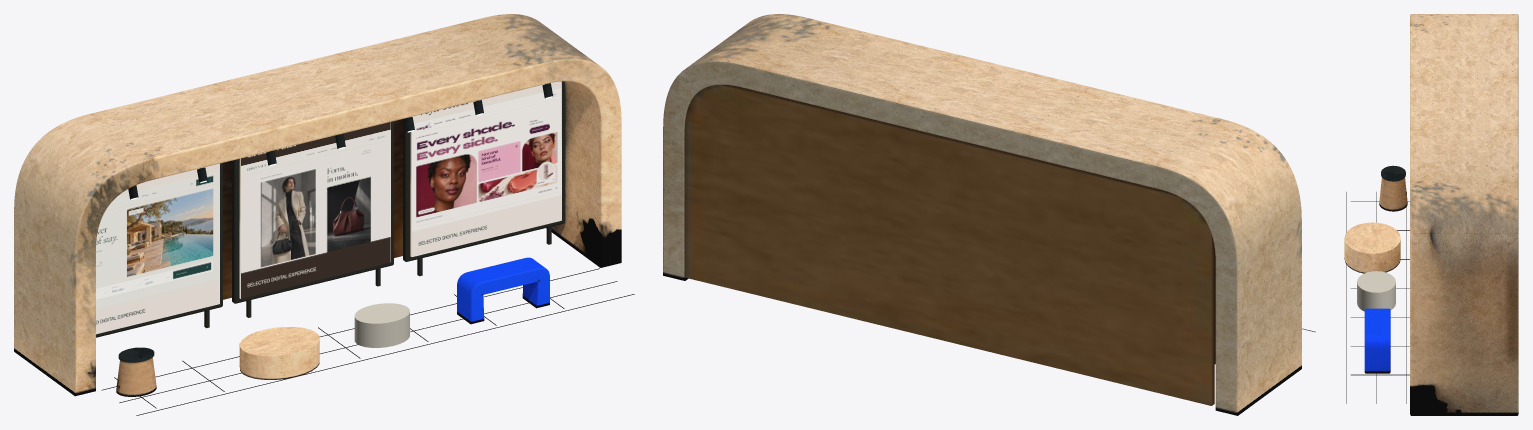
File: gallery-baked.glb
3 views of the same model, side by side, from view 1: azimuth 30°, elevation 25°; view 2: azimuth 150°, elevation 25°; view 3: azimuth 270°, elevation 25° (orthographic). The views are drawn at different scales.
Parts seen in each view (by area): view 1: Mesh_12, Mesh_7, Mesh_8, Mesh_6, Mesh_13, Mesh_10, Mesh_5, Mesh_9, Mesh_17, Mesh_15, Mesh_11, Mesh_14; view 2: Mesh_5, Mesh_12; view 3: Mesh_12, Mesh_10, Mesh_9, Mesh_11, Mesh_17, Mesh_15.
Boxes of the visible parts, left/top/right/bottom form: Mesh_12: left=14, top=14, right=621, bottom=396; Mesh_7: left=241, top=122, right=390, bottom=298; Mesh_8: left=412, top=81, right=561, bottom=256; Mesh_6: left=96, top=163, right=219, bottom=334; Mesh_13: left=96, top=81, right=564, bottom=337; Mesh_10: left=457, top=257, right=549, bottom=324; Mesh_5: left=223, top=119, right=402, bottom=299; Mesh_9: left=354, top=303, right=409, bottom=347; Mesh_17: left=101, top=268, right=634, bottom=415; Mesh_15: left=118, top=83, right=552, bottom=362; Mesh_11: left=116, top=357, right=156, bottom=396; Mesh_14: left=219, top=82, right=561, bottom=303; Mesh_5: left=684, top=85, right=1214, bottom=405; Mesh_12: left=663, top=14, right=1301, bottom=415; Mesh_12: left=1344, top=14, right=1518, bottom=415; Mesh_10: left=1364, top=308, right=1390, bottom=373; Mesh_9: left=1357, top=271, right=1395, bottom=311; Mesh_11: left=1379, top=177, right=1407, bottom=211; Mesh_17: left=1346, top=192, right=1409, bottom=403; Mesh_15: left=1381, top=165, right=1405, bottom=181.
Bounding box in the file's own units: 9.65 × 3.7 × 3.05.
7 materials, 4 textured.
